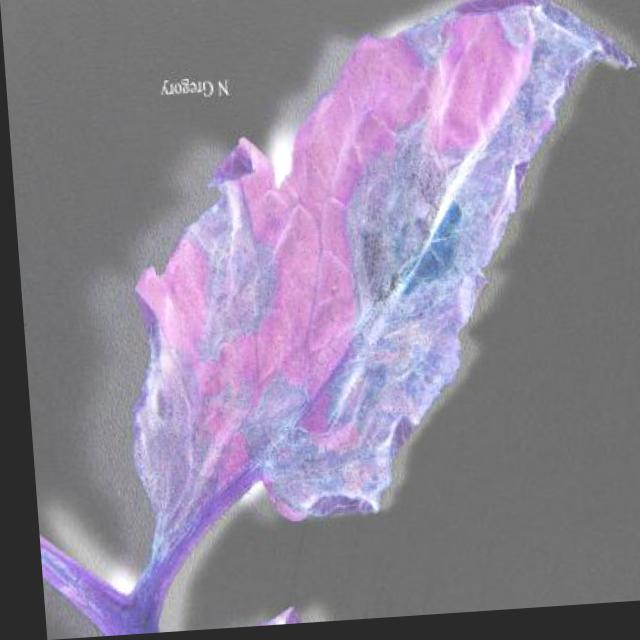Tomato mosaic virus leaf: (109, 0, 639, 592)
